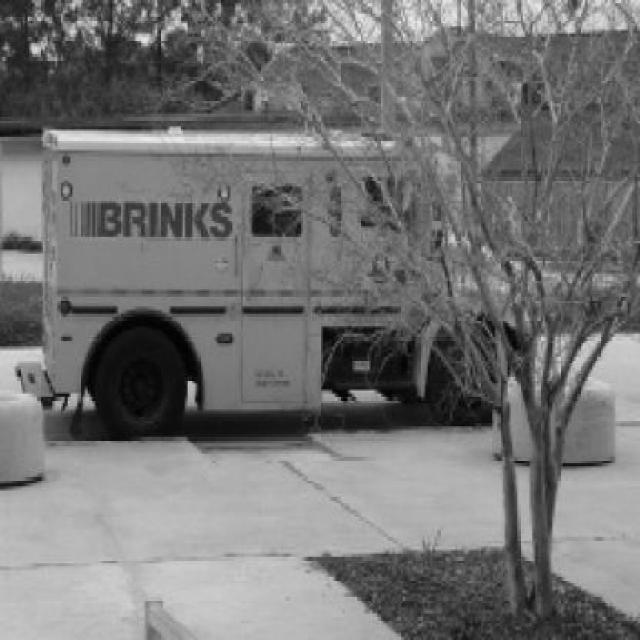Box Truck: (16, 129, 541, 438)
